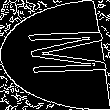M_E: (5, 30, 105, 80)
